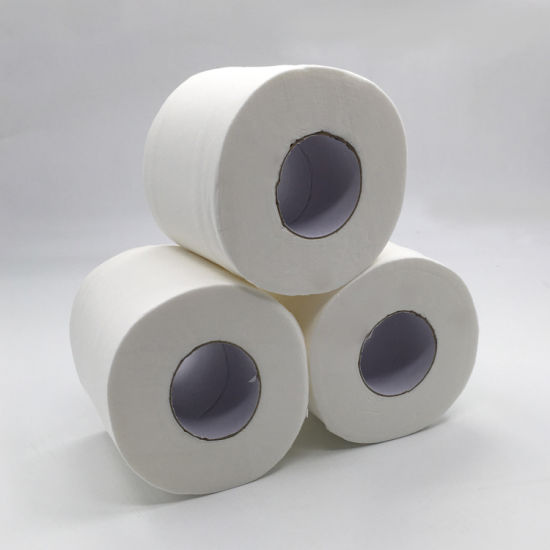Tissue: (145, 62, 408, 300)
